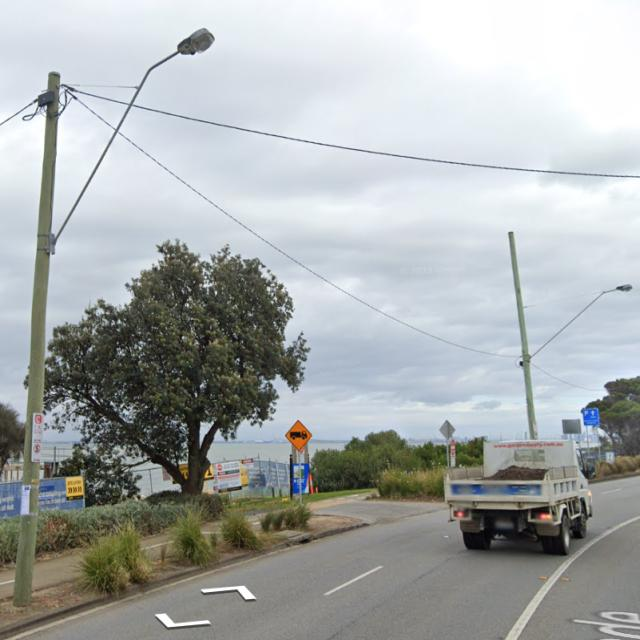streetlight: (49, 25, 216, 254), (522, 284, 634, 359)
timber-pole: (12, 70, 62, 608), (508, 230, 540, 440)
